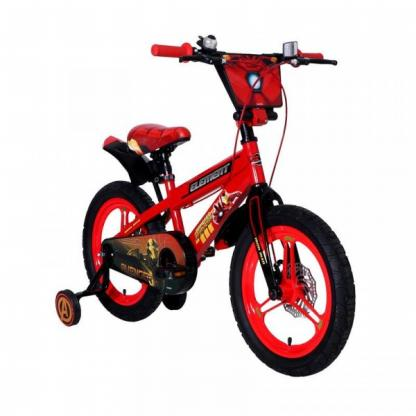Bike: (24, 19, 365, 381)
